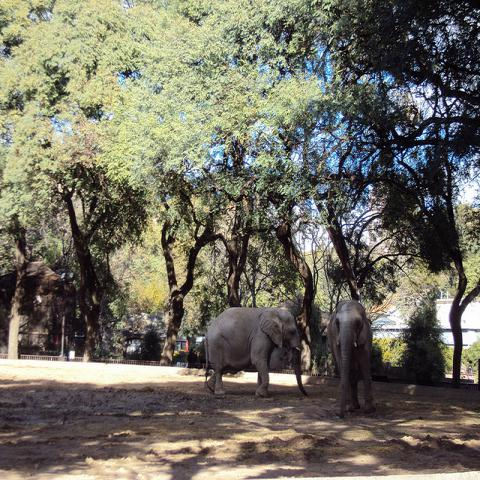car: (46, 319, 87, 351), (125, 334, 144, 359)
